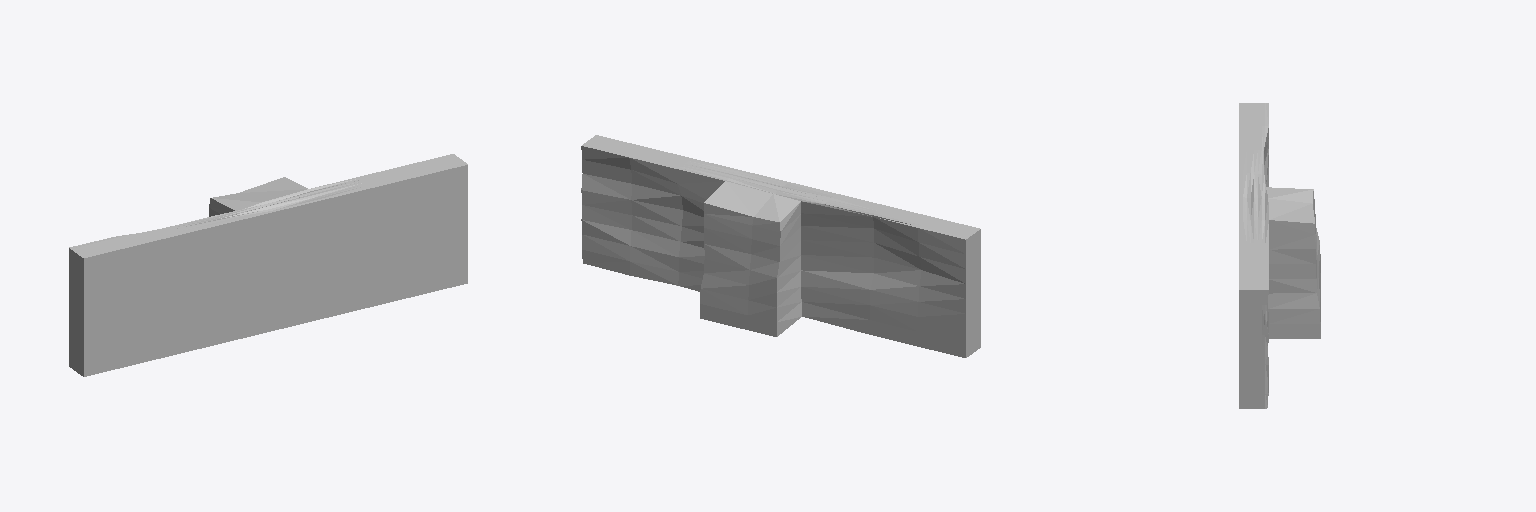
Rendered from rock4.obj.
3 renders of one model, left to right at view 1: azimuth 30°, elevation 25°; view 2: azimuth 150°, elevation 25°; view 3: azimuth 270°, elevation 25°, orthographic.
Visible parts, largest first — view 1: 立方体.108; view 2: 立方体.108; view 3: 立方体.108.
Part boxes in pixels (left/top/right/bottom): 立方体.108: left=69, top=154, right=467, bottom=376; 立方体.108: left=581, top=135, right=980, bottom=357; 立方体.108: left=1239, top=103, right=1320, bottom=408.
Bounding box in the file's own units: 601 × 177 × 110.